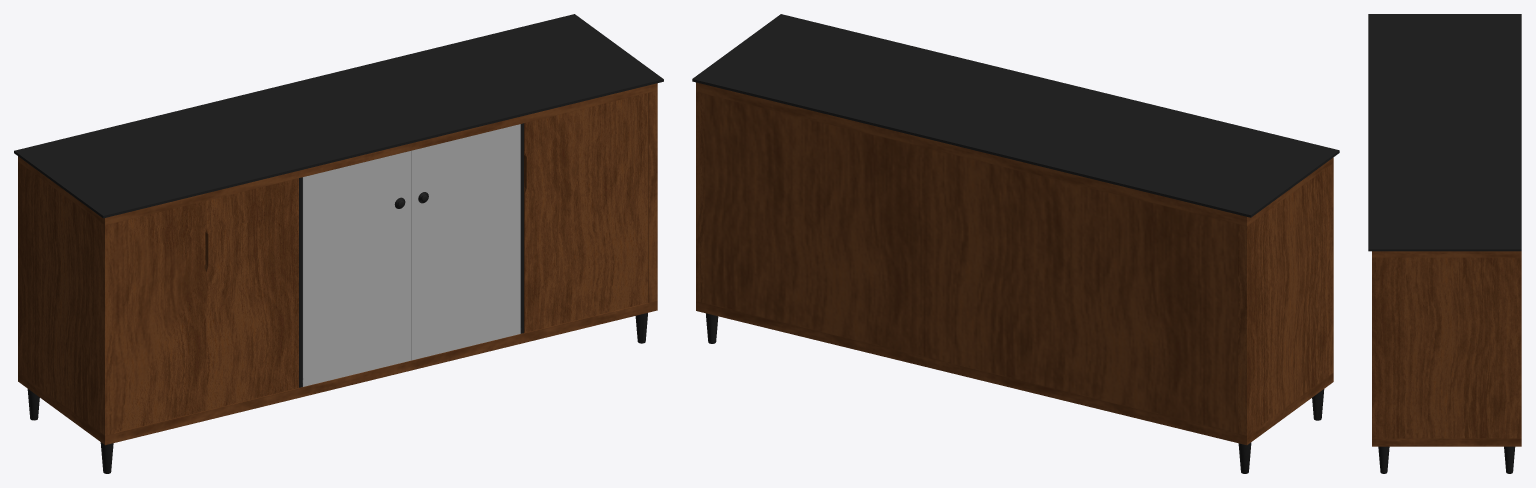
The model's file is stella_storage_cabinet.glb.
3 views of the same model, side by side, from view 1: azimuth 30°, elevation 25°; view 2: azimuth 150°, elevation 25°; view 3: azimuth 270°, elevation 25° (orthographic). The views are drawn at different scales.
Visible parts, largest first — view 1: Stella Storage Cabinet_DOOR, Stella Storage Cabinet; view 2: Stella Storage Cabinet; view 3: Stella Storage Cabinet.
Part boxes in pixels (left/top/right/bottom): Stella Storage Cabinet_DOOR: left=114, top=93, right=648, bottom=432; Stella Storage Cabinet: left=14, top=14, right=663, bottom=473; Stella Storage Cabinet: left=692, top=14, right=1339, bottom=473; Stella Storage Cabinet: left=1368, top=14, right=1521, bottom=473.
Size of the model in its own units: 1.67 by 0.7599 by 0.4608.
Materials: 2 (2 with a texture image).
